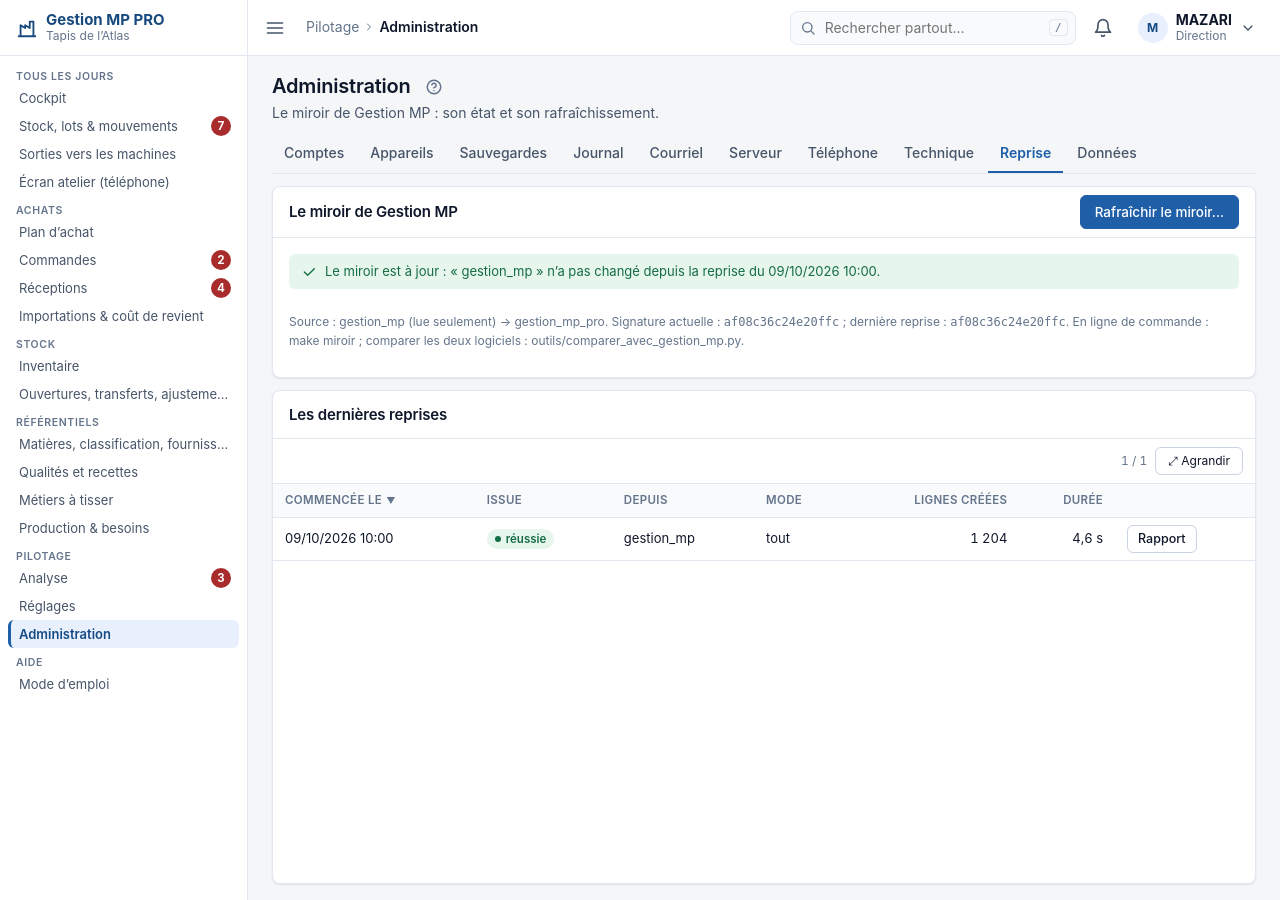
Scenario: Administration › Reprise › dit que le miroir est à jour, liste les reprises et montre le rapport
The image size is (1280, 900).
(page scrolled)
Expected: the text "Le miroir est à jour" is shown, [325,263,880,279]
Expected: the text "réussie" is shown, [487,529,554,549]
What coordinates should you click on to do the following:
click the button "Rapport"
I would click on:
 (1162, 539)
Its box is [1127,525,1197,553].
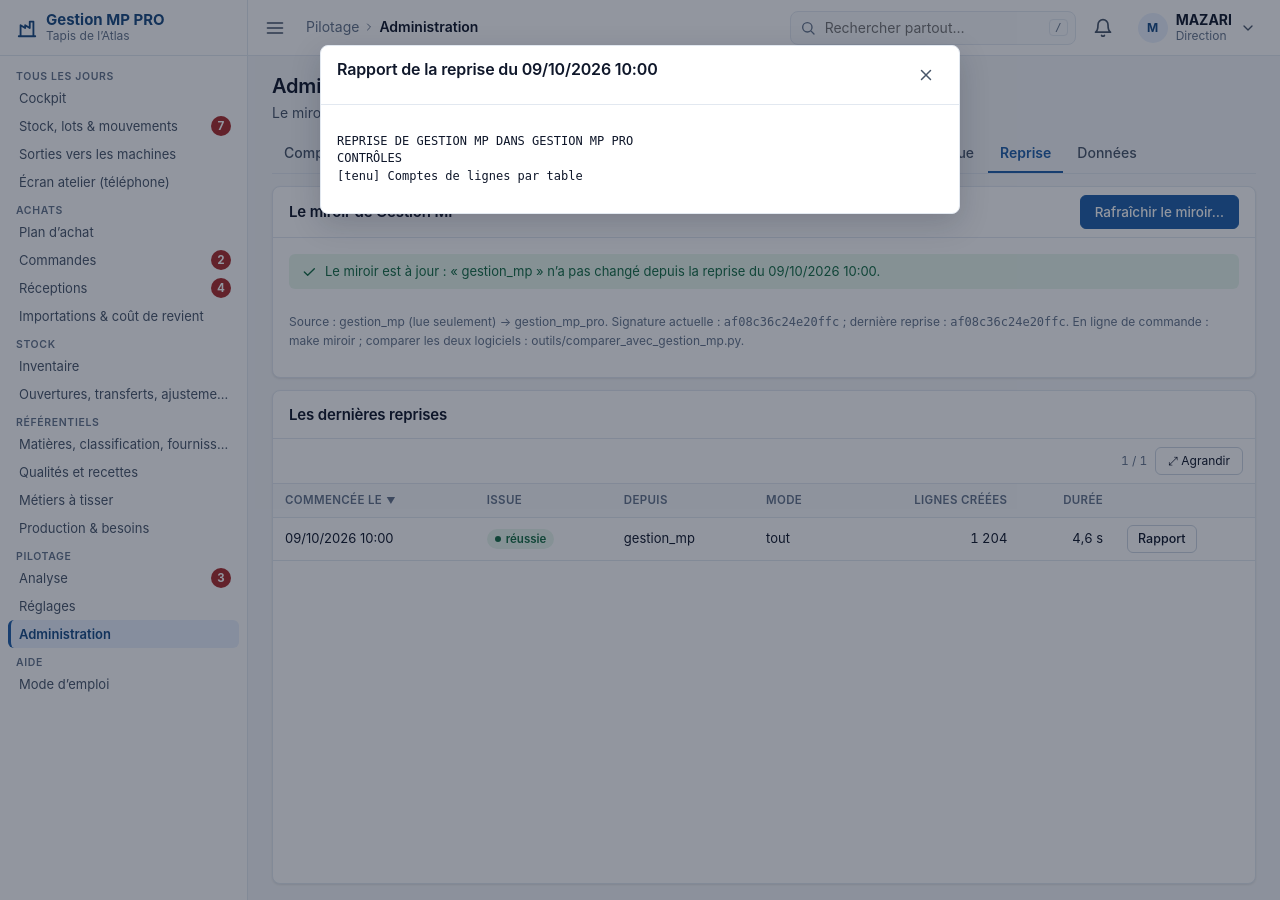
Expected: the text "[tenu] Comptes de lignes" is shown, [337,134,633,183]
